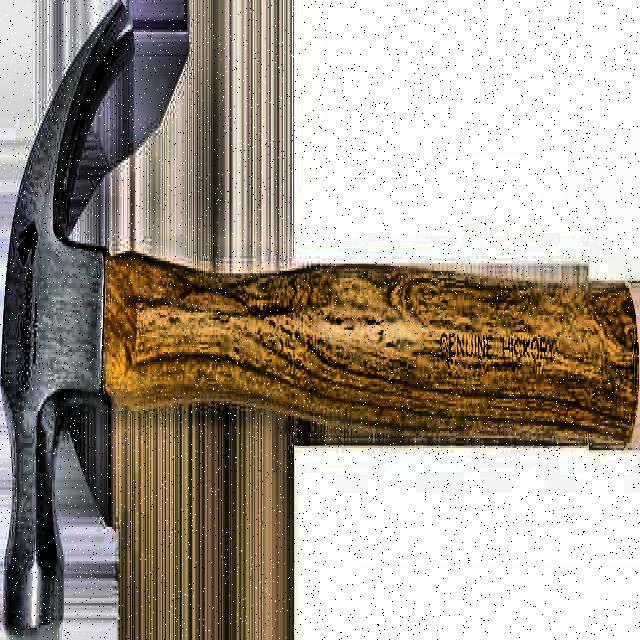hammer: (1, 2, 639, 630)
